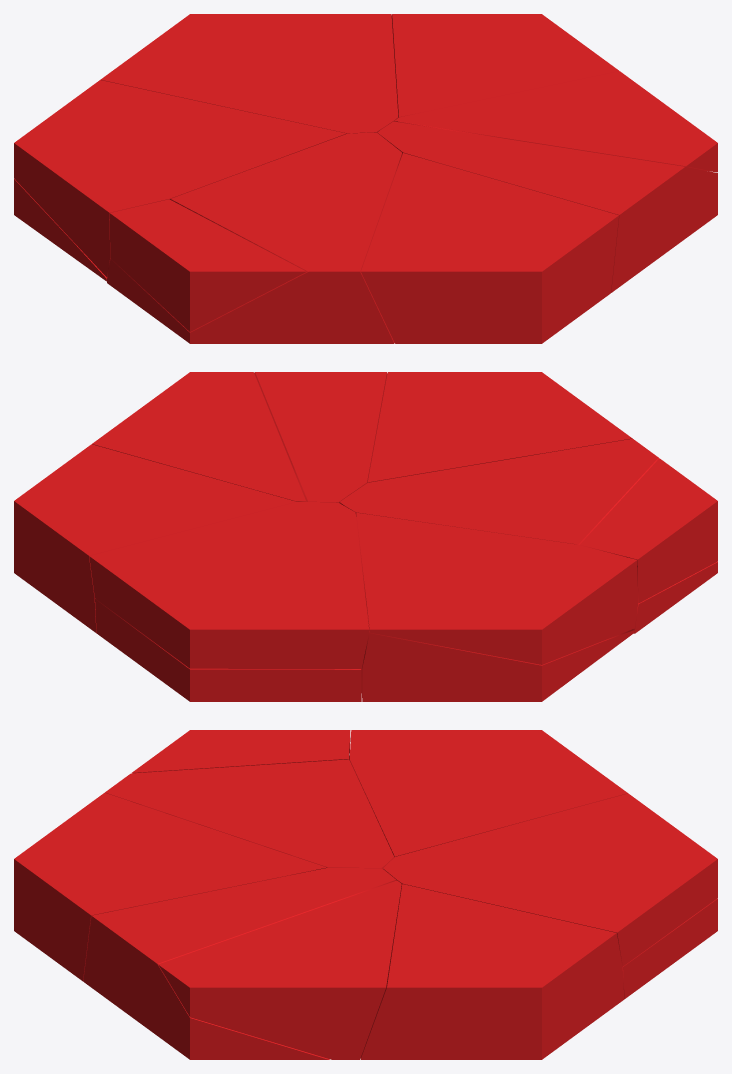
The model's file is redfractured.fbx.
3 renders of one model, top to bottom at view 1: azimuth 30°, elevation 25°; view 2: azimuth 150°, elevation 25°; view 3: azimuth 270°, elevation 25°, orthographic.
Visible parts, largest first — view 1: Cylinder_cell.007, Cylinder_cell, Cylinder_cell.003, Cylinder_cell.008, Cylinder_cell.001, Cylinder_cell.005, Cylinder_cell.004, Cylinder_cell.009, Cylinder_cell.006; view 2: Cylinder_cell.008, Cylinder_cell.003, Cylinder_cell.005, Cylinder_cell, Cylinder_cell.007, Cylinder_cell.004, Cylinder_cell.001, Cylinder_cell.006, Cylinder_cell.009, Cylinder_cell.002; view 3: Cylinder_cell.005, Cylinder_cell.008, Cylinder_cell.004, Cylinder_cell.007, Cylinder_cell.003, Cylinder_cell.001, Cylinder_cell, Cylinder_cell.009, Cylinder_cell.002.
Boxes of the visible parts, x1=… form: Cylinder_cell.007: x1=361, y1=153, x2=618, y2=343; Cylinder_cell: x1=107, y1=132, x2=402, y2=343; Cylinder_cell.003: x1=14, y1=80, x2=346, y2=277; Cylinder_cell.008: x1=100, y1=14, x2=398, y2=133; Cylinder_cell.001: x1=377, y1=121, x2=717, y2=292; Cylinder_cell.005: x1=391, y1=14, x2=619, y2=127; Cylinder_cell.004: x1=394, y1=71, x2=717, y2=172; Cylinder_cell.009: x1=109, y1=199, x2=306, y2=331; Cylinder_cell.006: x1=14, y1=178, x2=107, y2=281; Cylinder_cell.008: x1=89, y1=502, x2=369, y2=668; Cylinder_cell.003: x1=356, y1=512, x2=637, y2=664; Cylinder_cell.005: x1=14, y1=444, x2=296, y2=633; Cylinder_cell: x1=339, y1=438, x2=717, y2=633; Cylinder_cell.007: x1=367, y1=372, x2=632, y2=482; Cylinder_cell.004: x1=92, y1=372, x2=306, y2=501; Cylinder_cell.001: x1=254, y1=372, x2=387, y2=502; Cylinder_cell.006: x1=361, y1=620, x2=634, y2=701; Cylinder_cell.009: x1=580, y1=458, x2=717, y2=603; Cylinder_cell.002: x1=95, y1=599, x2=361, y2=701; Cylinder_cell.005: x1=360, y1=884, x2=624, y2=1059; Cylinder_cell.008: x1=383, y1=793, x2=717, y2=966; Cylinder_cell.004: x1=158, y1=880, x2=401, y2=1059; Cylinder_cell.007: x1=14, y1=792, x2=326, y2=981; Cylinder_cell.003: x1=349, y1=730, x2=627, y2=856; Cylinder_cell.001: x1=83, y1=867, x2=396, y2=1059; Cylinder_cell: x1=105, y1=759, x2=394, y2=868; Cylinder_cell.009: x1=132, y1=730, x2=350, y2=773; Cylinder_cell.002: x1=622, y1=898, x2=717, y2=999.
Bounding box in the file's own units: 173 × 22.6 × 200.
